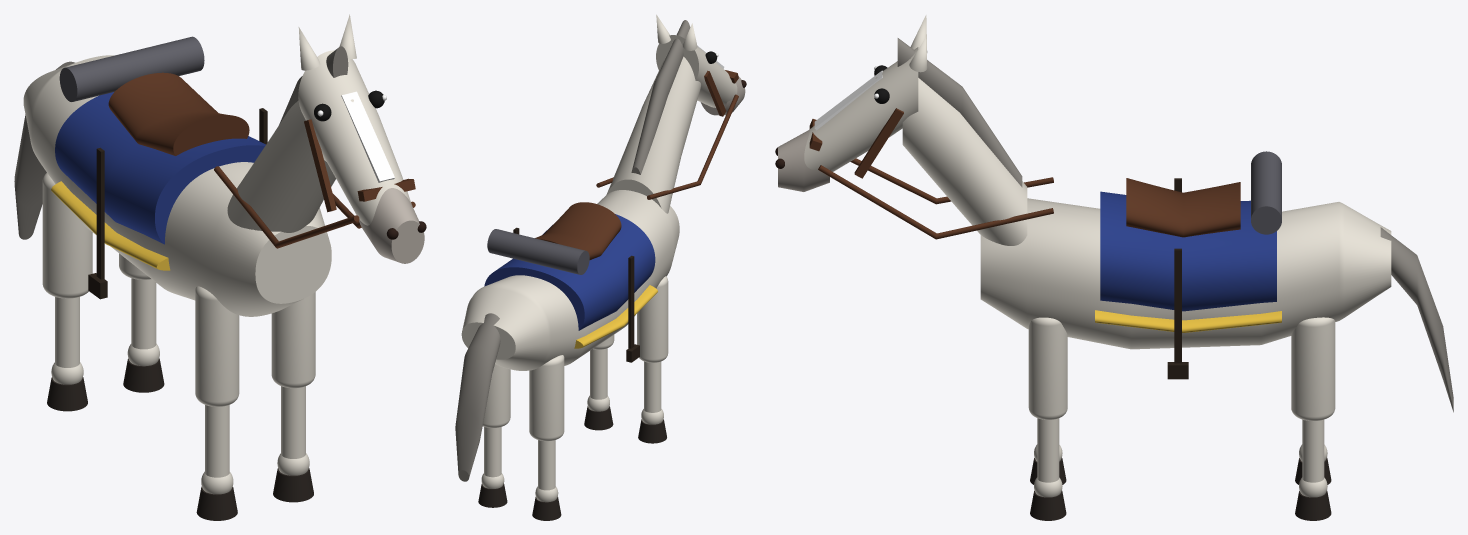
File: horse_grey.glb
The picture shows the model from 3 angles, left to right: view 1: azimuth 30°, elevation 25°; view 2: azimuth 150°, elevation 25°; view 3: azimuth 270°, elevation 25°; orthographic projection. The views are drawn at different scales.
Parts seen in each view (by area): view 1: Body, Cloth, Head, Neck, Saddle, Cloak, Upper_FL, Upper_HL, Upper_FR, Muzzle, Tail, ClothTrim (+18 smaller); view 2: Body, Cloth, Neck, Tail, Saddle, Upper_HL, Cloak, Mane, Upper_FL, Head, Upper_HR, ClothTrim (+12 smaller); view 3: Body, Cloth, Neck, Head, Saddle, Upper_HR, Upper_FR, Tail, Mane, Cloak, ClothTrim, Muzzle (+8 smaller).
Part boxes in pixels (x1,y1,x2,y2): Body: (23,55,331,316); Cloth: (55,92,265,244); Head: (298,50,411,225); Neck: (227,100,335,232); Saddle: (108,72,249,155); Cloak: (59,36,204,101); Upper_FL: (195,286,239,406); Upper_HL: (42,173,92,298); Upper_FR: (271,292,315,388); Muzzle: (359,188,424,263); Tail: (14,61,74,239); ClothTrim: (51,181,170,270); Body: (461,190,679,370); Cloth: (484,214,655,330); Neck: (606,56,700,213); Tail: (455,313,500,481); Saddle: (535,202,621,259); Upper_HL: (529,355,564,441); Cloak: (487,229,589,274); Mane: (631,20,690,174); Upper_FL: (637,276,668,362); Head: (656,35,737,107); Upper_HR: (482,364,510,427); ClothTrim: (574,285,657,348); Body: (980,198,1391,349); Cloth: (1100,191,1276,311); Neck: (902,78,1027,245); Head: (804,47,918,171); Saddle: (1126,178,1240,237); Upper_HR: (1291,317,1335,421); Upper_FR: (1028,317,1067,419); Tail: (1380,227,1453,412); Mane: (897,38,1022,187); Cloak: (1251,151,1281,234); ClothTrim: (1095,310,1281,332); Muzzle: (778,130,829,191).
Size of the model in its own units: 0.69 by 2 by 2.61.
